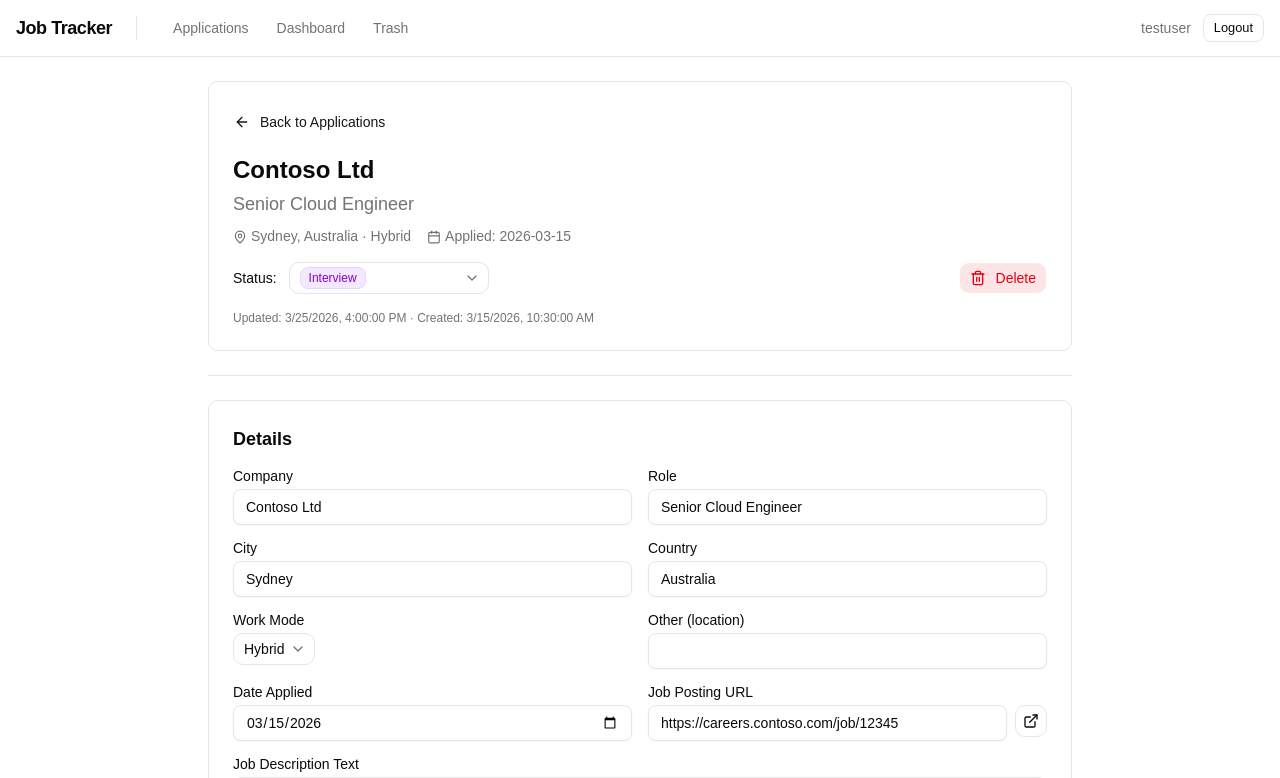
Test: ApplicationDetailPage › sends status and rejection together when confirming rejection
Expected: the heading "Contoso Ltd" is shown, 233,156 -> 374,183
What coordinates should you click on to do the following:
click the dropdown named "status"
I would click on:
 (389, 278)
Its box is 289,262 -> 489,294.
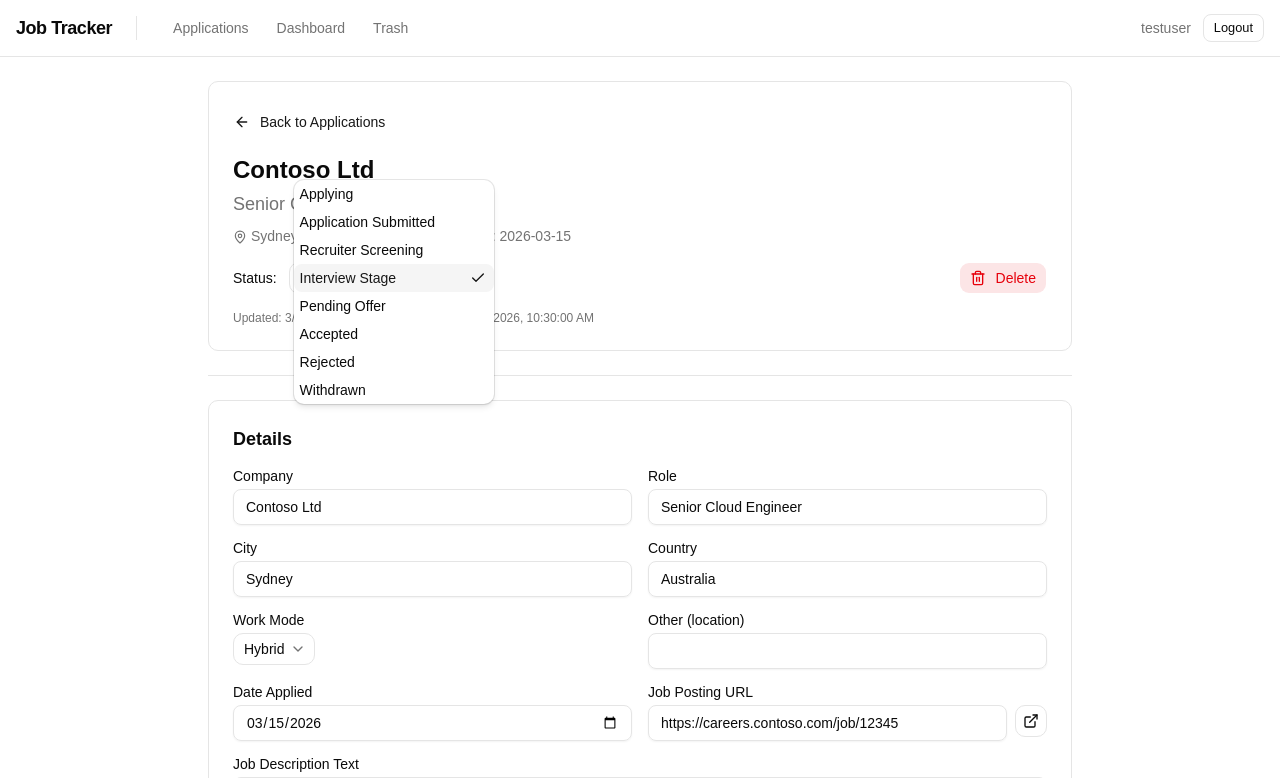
What coordinates should you click on to do the following:
click the option "Rejected"
I would click on:
 (327, 362)
Its box is 300,354 -> 355,370.
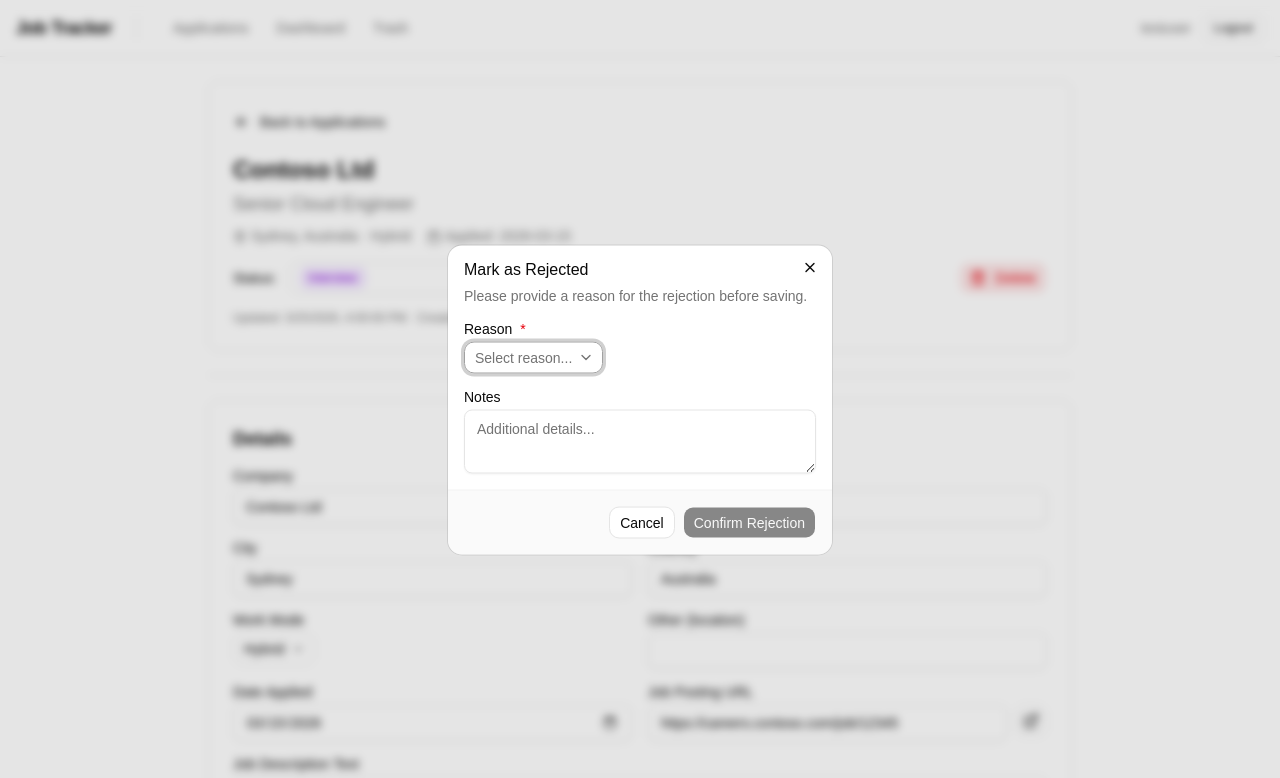
Result: the dialog is shown at 448,246 -> 832,554
# Pick a reason from the dialog's combobox
What coordinates should you click on to do the following:
click the dropdown labelled "Select reason... ▼"
I would click on:
 (534, 358)
Its box is 464,342 -> 603,374.
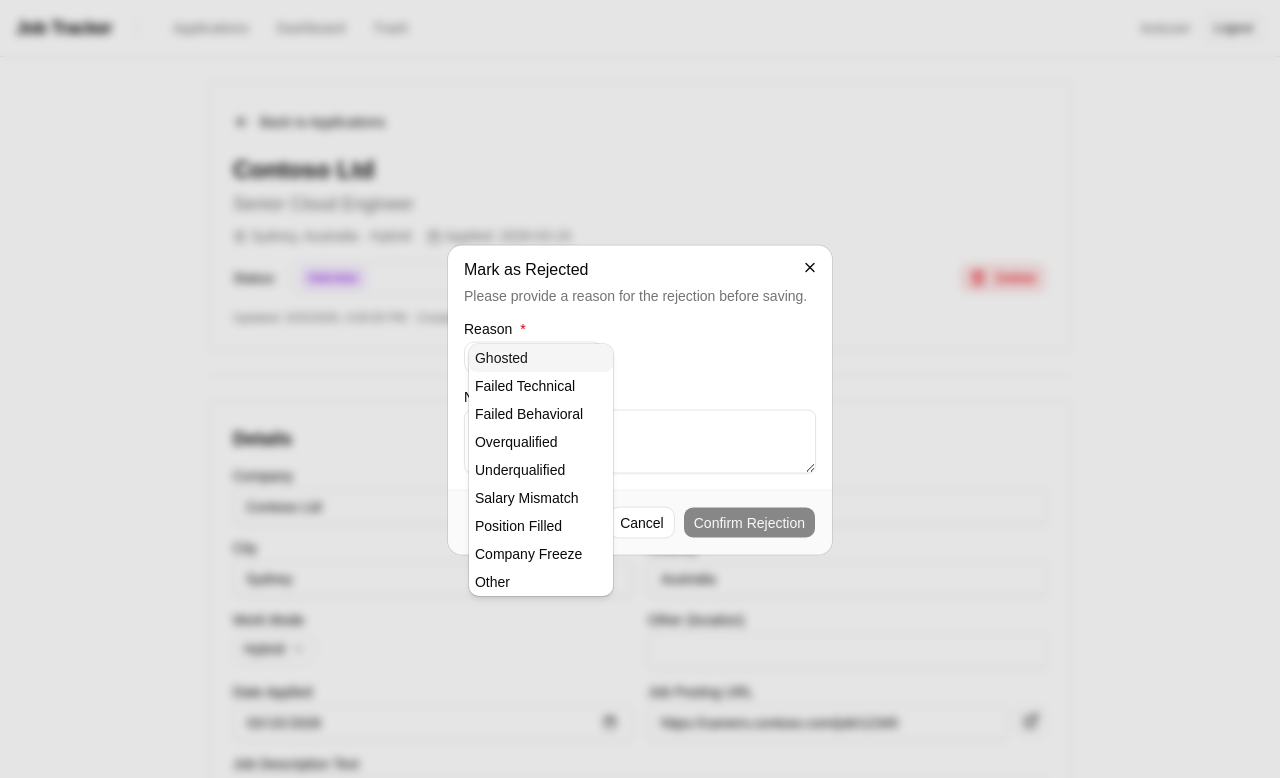
What coordinates should you click on to do the following:
click the option "Ghosted"
I would click on:
 (541, 358)
Its box is 469,344 -> 613,372.
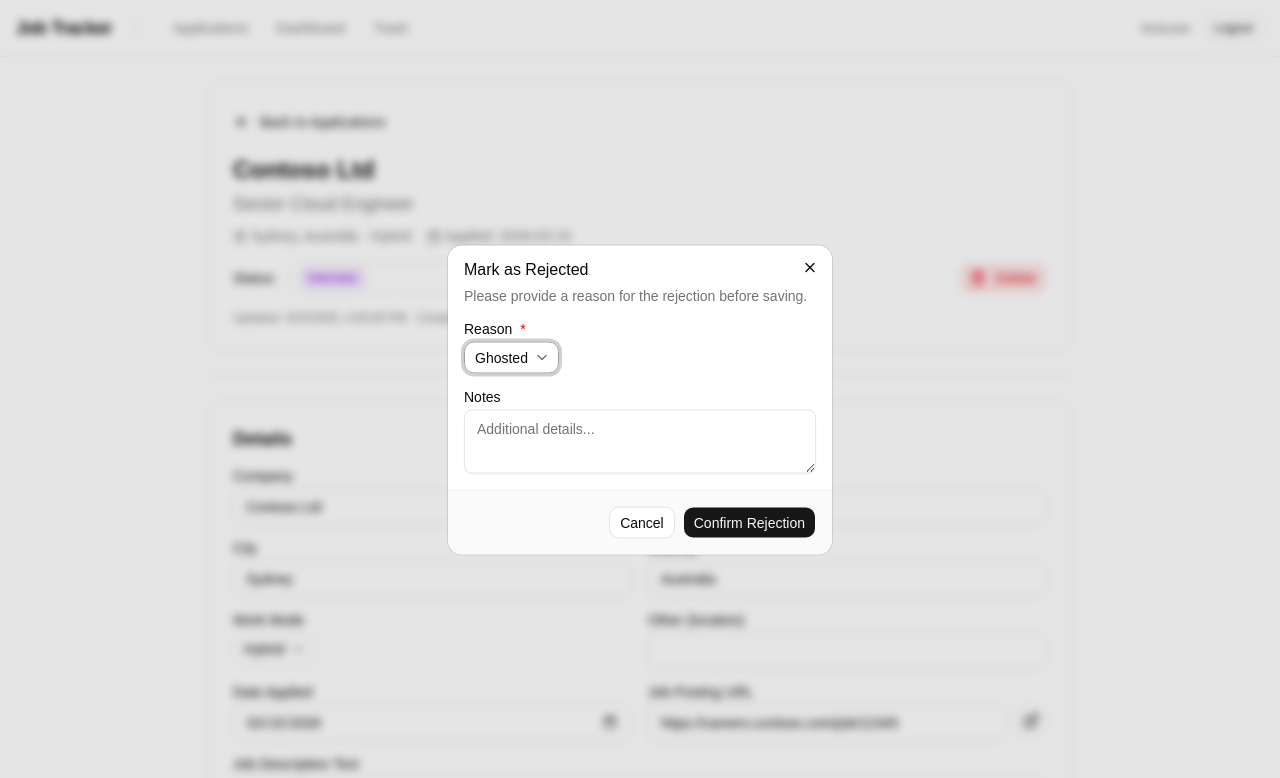
What coordinates should you click on to do the following:
click the button "Confirm Rejection"
I would click on:
 (749, 522)
Its box is 683,506 -> 816,538.
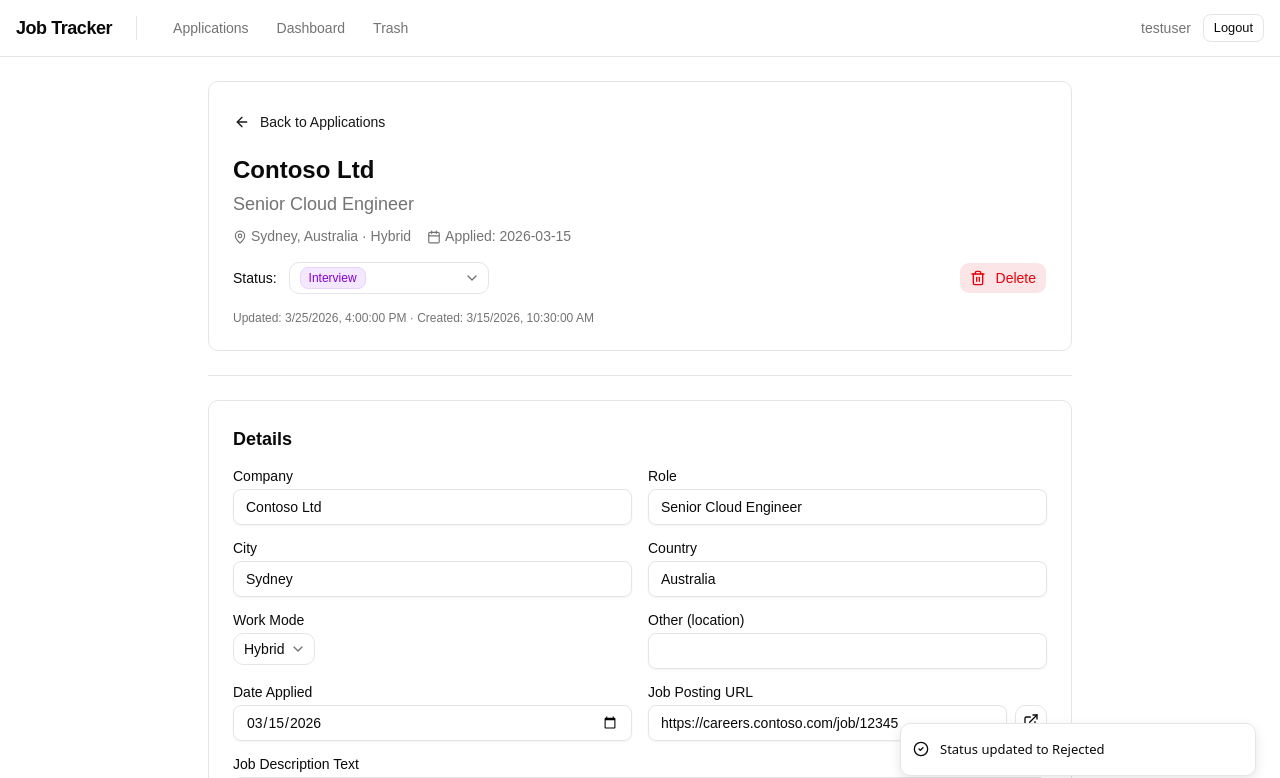
Result: the dialog is gone
